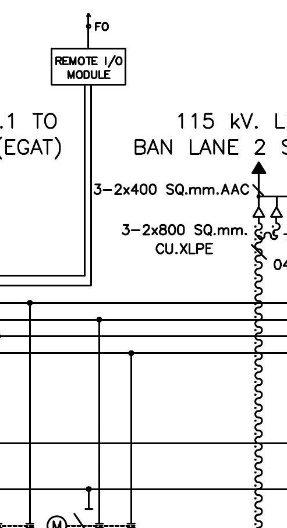remote_io_module: (50, 48, 126, 86)
terminator_double: (252, 195, 284, 218)
